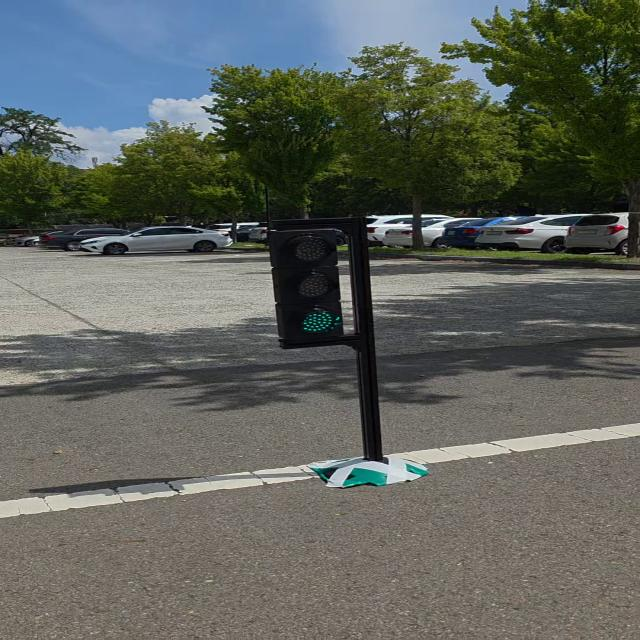green: (268, 220, 345, 345)
